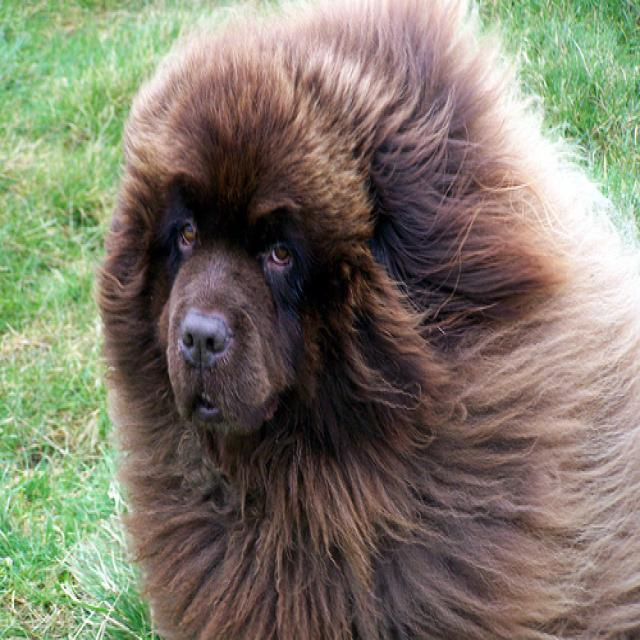dog-newfoundland: (1, 2, 637, 637)
